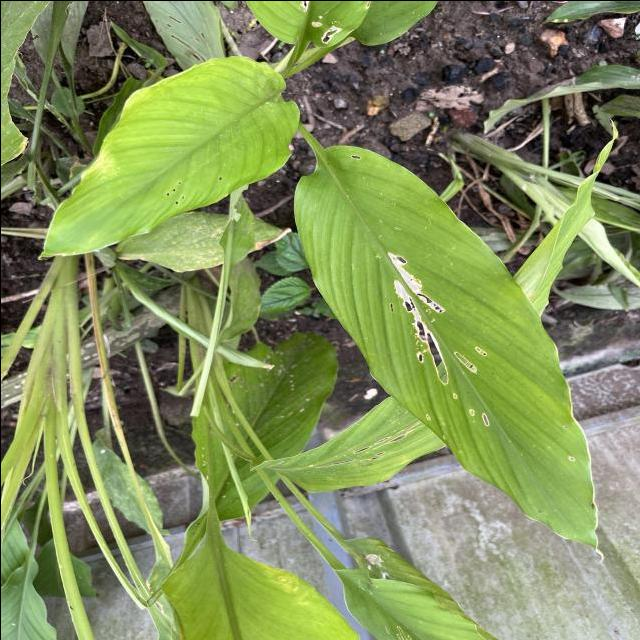Curcuma longa: (286, 139, 616, 562), (24, 51, 306, 267)
